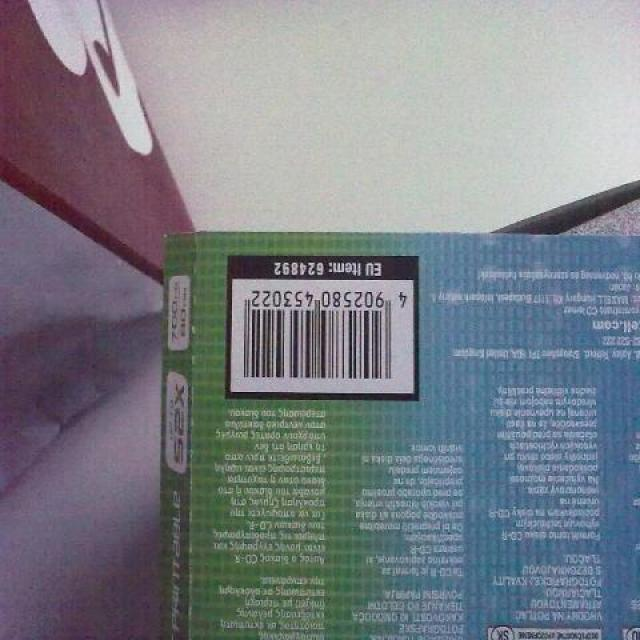Barcode: (229, 277, 415, 393)
